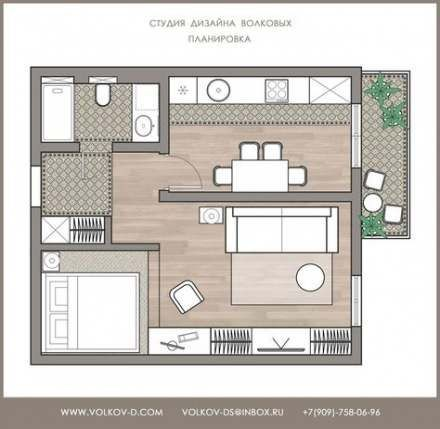room: (151, 193, 368, 364), (162, 55, 364, 197), (26, 64, 168, 148)
wall: (33, 348, 362, 366), (29, 67, 367, 83), (159, 185, 351, 211), (34, 235, 162, 256), (30, 205, 42, 365), (348, 169, 366, 275), (152, 85, 174, 157), (32, 83, 46, 169), (107, 139, 173, 155), (345, 326, 366, 364), (37, 139, 78, 157), (98, 215, 119, 249), (352, 77, 364, 102)
window: (346, 101, 370, 172), (351, 276, 366, 325), (31, 167, 46, 208)
